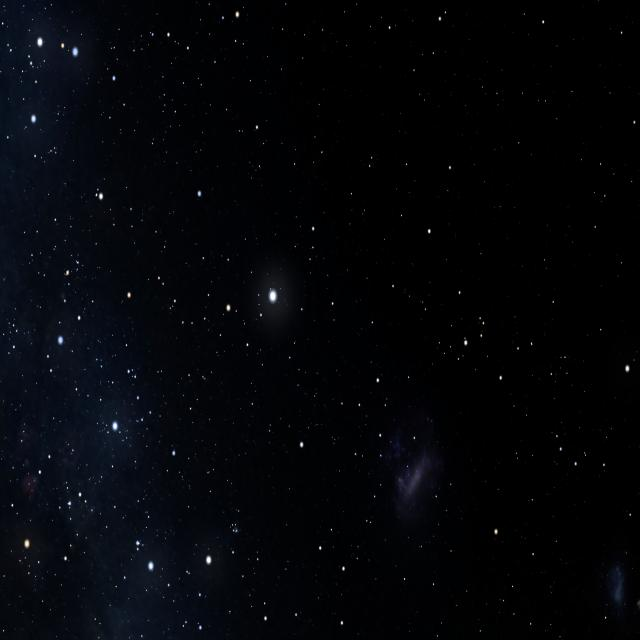Pyxis: (297, 220, 338, 453)
